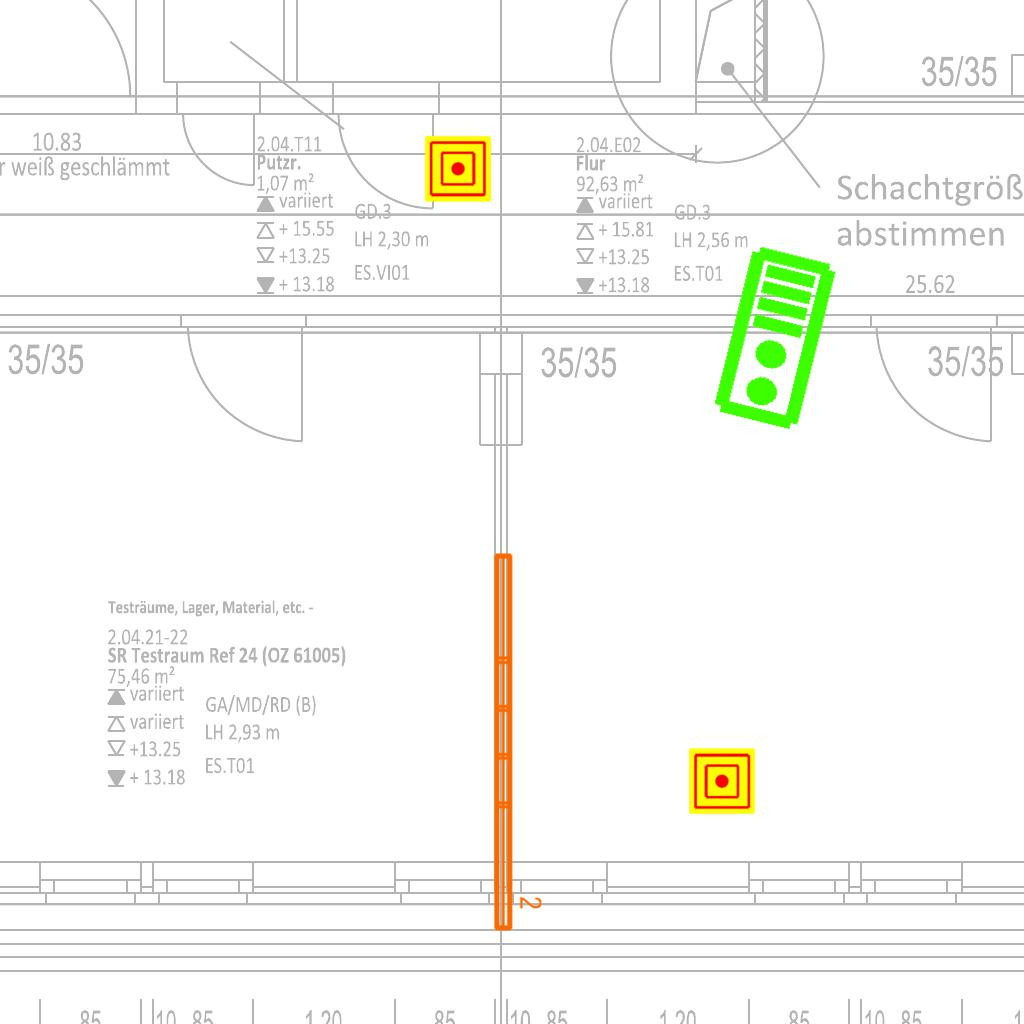Ambulanz_Pendelleuchte_LED: (488, 548, 544, 935)
Gegensprechanlage_mit_Video: (709, 242, 844, 436)
NAM-Nichtautomatischer_Melder: (689, 748, 755, 814), (425, 136, 491, 202)
